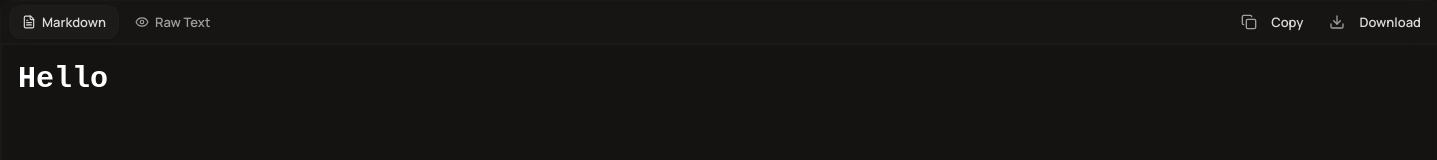
Test case: OutputViewer component › switches to raw text rendering on the Raw Text tab
Expected: the heading "Hello" is shown, top-left (18, 62), bottom-right (108, 96)
Click the button "Raw Text" at [173, 22], box top-left (123, 5), bottom-right (222, 39)
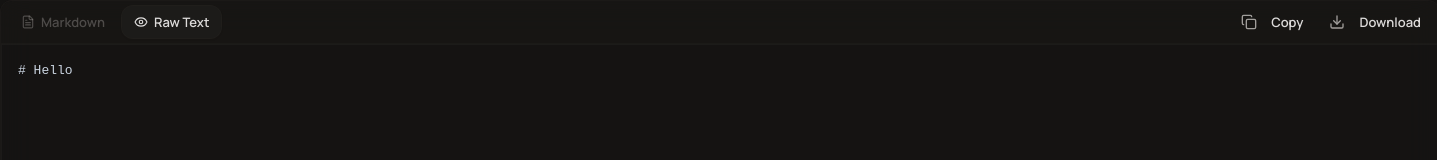
Expected: the text "# Hello" is shown, top-left (18, 63), bottom-right (73, 78)
